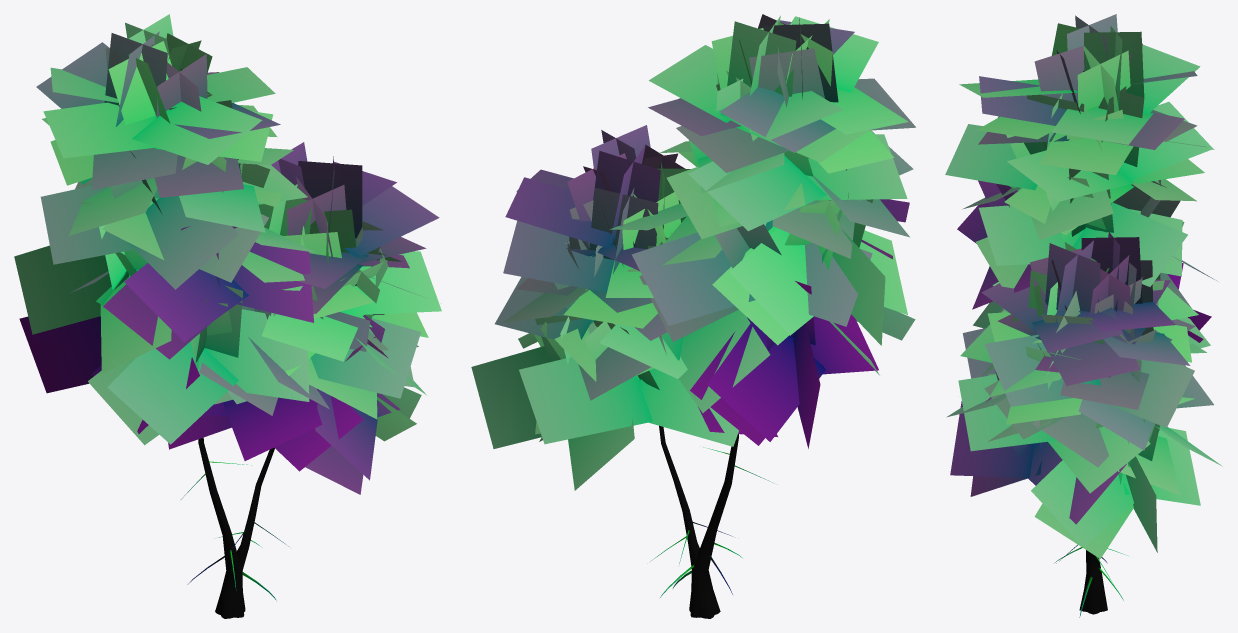
The model's file is Tree_2_11.fbx.
3 renders of one model, left to right at view 1: azimuth 30°, elevation 25°; view 2: azimuth 150°, elevation 25°; view 3: azimuth 270°, elevation 25°, orthographic. The views are drawn at different scales.
Visible parts, largest first — view 1: _11; view 2: _11; view 3: _11.
Part boxes in pixels (bbox=[...]): _11: bbox=[14, 14, 441, 618]; _11: bbox=[471, 14, 915, 618]; _11: bbox=[945, 14, 1222, 617].
Bounding box in the file's own units: 1183 × 1738 × 802.
